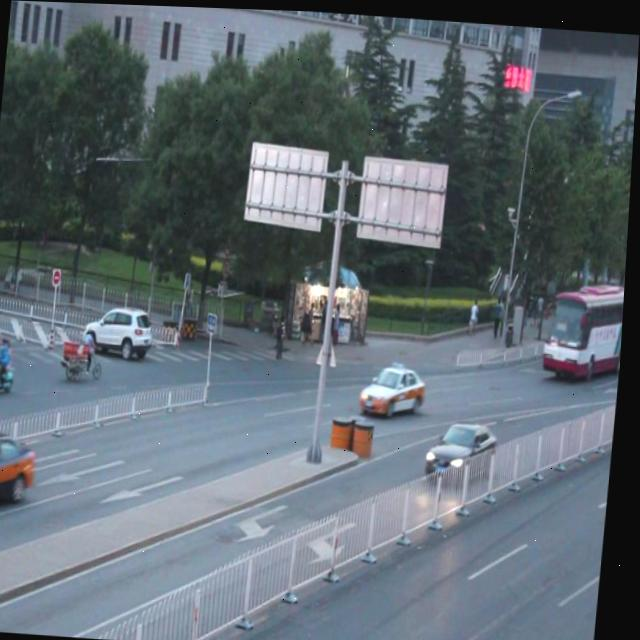car: (428, 416, 499, 476), (361, 353, 432, 412), (84, 304, 156, 362), (0, 422, 41, 519)
van: (546, 273, 628, 371)
